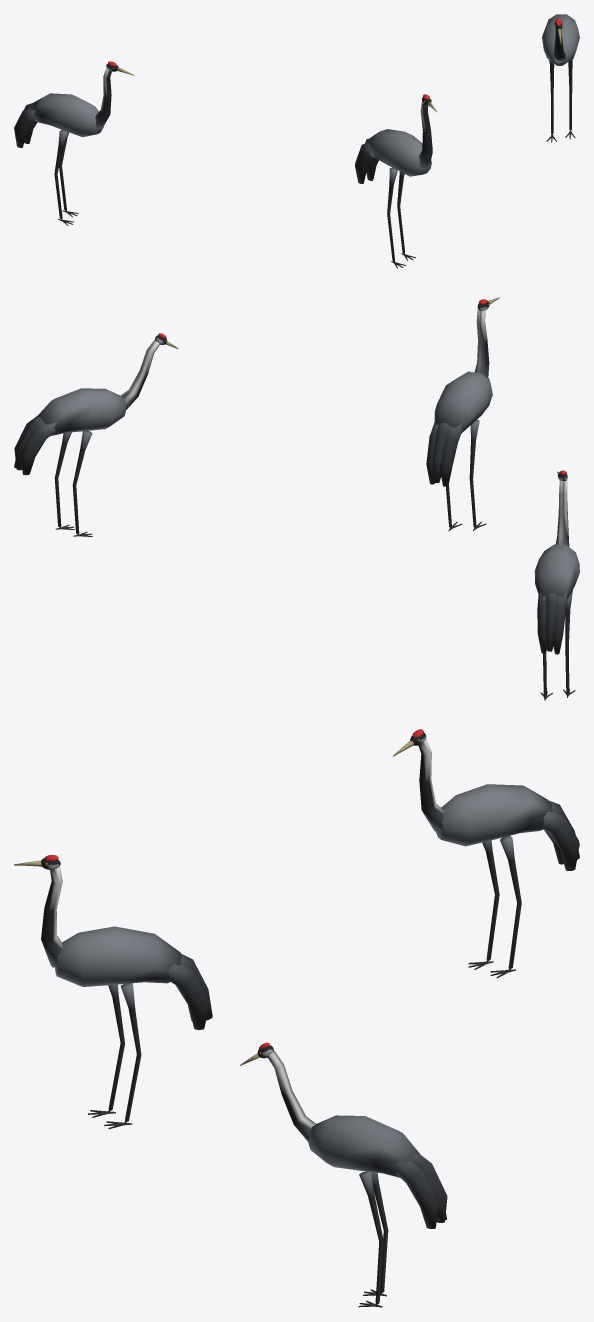
File: cranes.glb
The picture shows the model from 3 angles, top to bottom: view 1: azimuth 30°, elevation 25°; view 2: azimuth 150°, elevation 25°; view 3: azimuth 270°, elevation 25°; orthographic projection. The views are drawn at different scales.
Visible parts, largest first — view 1: Crane_Companion, Crane_Sentinel, Crane_Forager, Crane_Sentinel_NeckPivot, Crane_Companion_NeckPivot; view 2: Crane_Forager, Crane_Sentinel, Crane_Companion, Crane_Forager_NeckPivot, Crane_Sentinel_NeckPivot, Crane_Companion_NeckPivot; view 3: Crane_Sentinel, Crane_Companion, Crane_Forager, Crane_Sentinel_NeckPivot, Crane_Companion_NeckPivot, Crane_Forager_NeckPivot.
Part boxes in pixels (bbox=[...]): Crane_Companion: bbox=[14, 93, 103, 225]; Crane_Sentinel: bbox=[355, 129, 431, 268]; Crane_Forager: bbox=[542, 14, 579, 142]; Crane_Sentinel_NeckPivot: bbox=[419, 102, 432, 169]; Crane_Companion_NeckPivot: bbox=[95, 67, 111, 129]; Crane_Forager: bbox=[14, 388, 125, 536]; Crane_Sentinel: bbox=[426, 371, 492, 530]; Crane_Companion: bbox=[534, 544, 579, 700]; Crane_Forager_NeckPivot: bbox=[120, 339, 159, 409]; Crane_Sentinel_NeckPivot: bbox=[474, 309, 489, 377]; Crane_Companion_NeckPivot: bbox=[556, 480, 569, 546]; Crane_Sentinel: bbox=[55, 926, 212, 1129]; Crane_Companion: bbox=[436, 784, 579, 978]; Crane_Forager: bbox=[308, 1115, 447, 1307]; Crane_Sentinel_NeckPivot: bbox=[41, 866, 62, 967]; Crane_Companion_NeckPivot: bbox=[418, 738, 443, 832]; Crane_Forager_NeckPivot: bbox=[267, 1051, 315, 1141].
Bounding box in the file's own units: 3.71 × 1.25 × 2.37.
